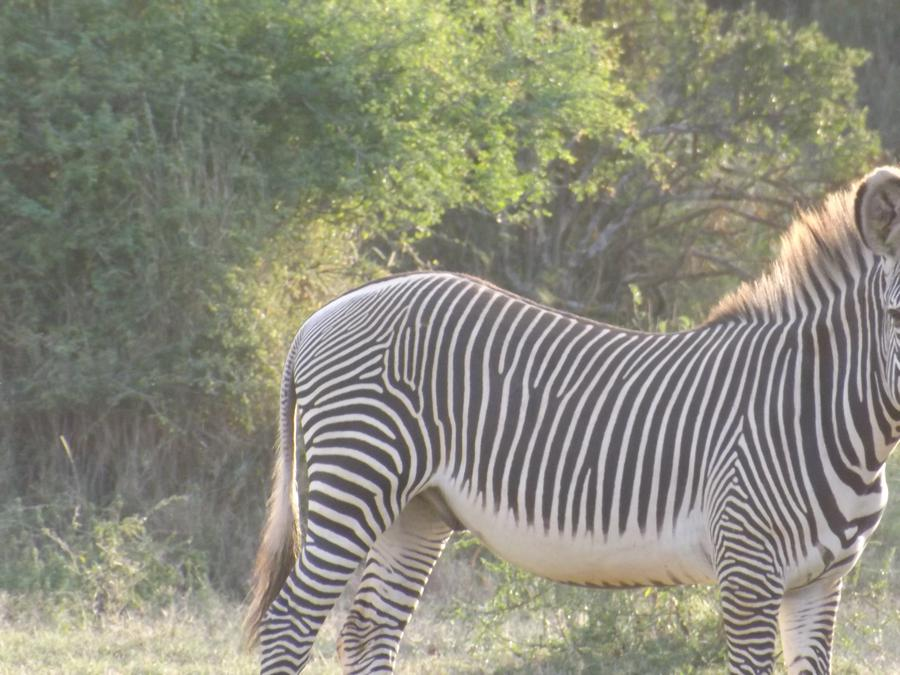zebra_grevys: (298, 244, 805, 592)
